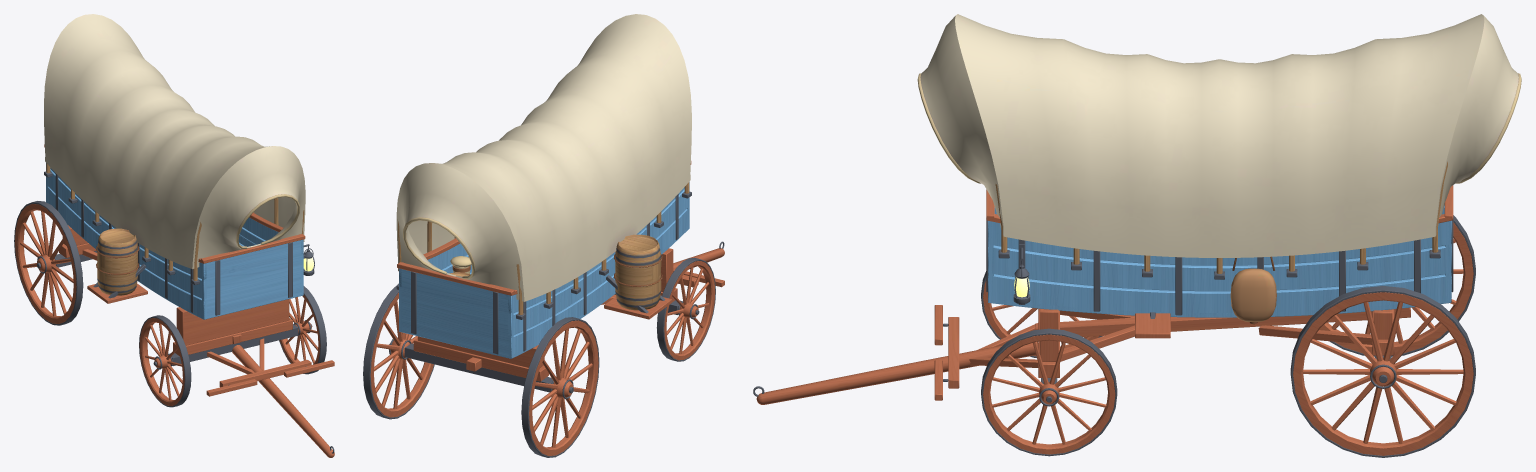
File: covered-wagon.glb
The picture shows the model from 3 angles, left to right: view 1: azimuth 30°, elevation 25°; view 2: azimuth 150°, elevation 25°; view 3: azimuth 270°, elevation 25°; orthographic projection. The views are drawn at different scales.
Parts seen in each view (by area): view 1: covered-wagon_body, covered-wagon_wagonbed, covered-wagon_gear, covered-wagon_wheel_rr, covered-wagon_wheel_fr, covered-wagon_wheel_fl, covered-wagon_bows; view 2: covered-wagon_body, covered-wagon_wagonbed, covered-wagon_wheel_rr, covered-wagon_gear, covered-wagon_wheel_rl, covered-wagon_wheel_fr, covered-wagon_bows; view 3: covered-wagon_body, covered-wagon_wagonbed, covered-wagon_gear, covered-wagon_wheel_rl, covered-wagon_wheel_fl, covered-wagon_wheel_rr, covered-wagon_bows, covered-wagon_wheel_fr.
Boxes of the visible parts, <box> form: covered-wagon_body: <box>44,14,305,295</box>; covered-wagon_wagonbed: <box>44,144,305,319</box>; covered-wagon_gear: <box>55,225,334,457</box>; covered-wagon_wheel_rr: <box>14,201,83,325</box>; covered-wagon_wheel_fr: <box>139,315,191,407</box>; covered-wagon_wheel_fl: <box>279,286,326,374</box>; covered-wagon_bows: <box>46,163,304,280</box>; covered-wagon_body: <box>396,14,691,310</box>; covered-wagon_wagonbed: <box>396,161,691,358</box>; covered-wagon_wheel_rr: <box>521,317,599,457</box>; covered-wagon_gear: <box>404,241,724,392</box>; covered-wagon_wheel_rl: <box>363,283,434,419</box>; covered-wagon_wheel_fr: <box>656,257,715,361</box>; covered-wagon_bows: <box>398,182,689,314</box>; covered-wagon_body: <box>917,14,1521,324</box>; covered-wagon_wagonbed: <box>986,185,1453,317</box>; covered-wagon_gear: <box>753,305,1410,404</box>; covered-wagon_wheel_rl: <box>1290,286,1475,457</box>; covered-wagon_wheel_fl: <box>981,328,1117,456</box>; covered-wagon_wheel_rr: <box>1319,215,1475,356</box>; covered-wagon_bows: <box>995,161,1447,273</box>; covered-wagon_wheel_fr: <box>981,271,1102,357</box>.
Bounding box in the file's own units: 2.12 × 3.12 × 5.64.
Materials: 7 (4 with a texture image).
